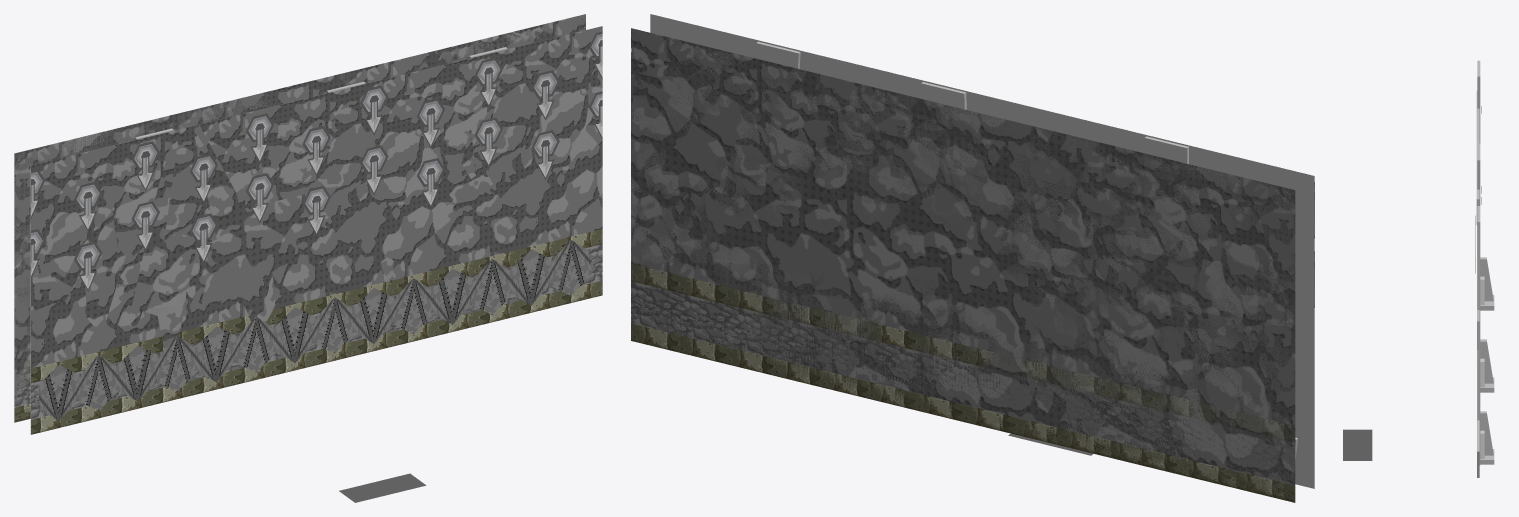
Rendered from stg_00_3_bake.dae.
3 renders of one model, left to right at view 1: azimuth 30°, elevation 25°; view 2: azimuth 150°, elevation 25°; view 3: azimuth 270°, elevation 25°, orthographic. The views are drawn at different scales.
Visible parts, largest first — view 1: polySurface1275_q00143_part0, polySurface1270_q00142, polySurface1268_q00117_part0, polySurface1275_q00143_part1, jon_6_part0, jon_1_part0, jon_2_part0, pPlane450_q00000; view 2: jon_2_part0, jon_6_part0, jon_1_part0, jon_6_part1, pPlane449_q00211, jon_0_part0, jon_2_part1, jon_1_part1, polySurface1254_q00200, polySurface1253_q00199, polySurface1255_q00201; view 3: pPlane450_q00000, polySurface1253_q00199, pCube24_q00207, pCube24_q00210, pCube24_q00204, polySurface1251_q00193, polySurface1255_q00201, polySurface1250_q00198, polySurface1254_q00200, polySurface1252_q00197.
Part boxes in pixels (x1,y1,x2,y2): polySurface1275_q00143_part0: (31,26,602,419); polySurface1270_q00142: (37,240,591,420); polySurface1268_q00117_part0: (31,115,602,349); polySurface1275_q00143_part1: (31,229,602,434); jon_6_part0: (14,14,585,407); jon_1_part0: (14,15,585,406); jon_2_part0: (14,29,552,379); pPlane450_q00000: (339,473,426,502); jon_2_part0: (631,29,1295,485); jon_6_part0: (631,28,1295,484); jon_1_part0: (631,29,1295,467); jon_6_part1: (631,264,1295,502); pPlane449_q00211: (650,14,1314,488); jon_0_part0: (631,30,1244,420); jon_2_part1: (632,324,1295,502); jon_1_part1: (631,324,1188,460); polySurface1254_q00200: (921,82,966,109); polySurface1253_q00199: (755,41,800,68); polySurface1255_q00201: (1144,136,1188,163); pPlane450_q00000: (1343,429,1372,460); polySurface1253_q00199: (1477,206,1480,465); pCube24_q00207: (1480,411,1493,455); pCube24_q00210: (1480,257,1493,301); pCube24_q00204: (1480,339,1493,383); polySurface1251_q00193: (1476,91,1479,224); polySurface1255_q00201: (1477,60,1480,143); polySurface1250_q00198: (1477,225,1479,477); polySurface1254_q00200: (1477,144,1480,205); polySurface1252_q00197: (1477,228,1479,349).
Bounding box in the file's own units: 40 × 23 × 11.
